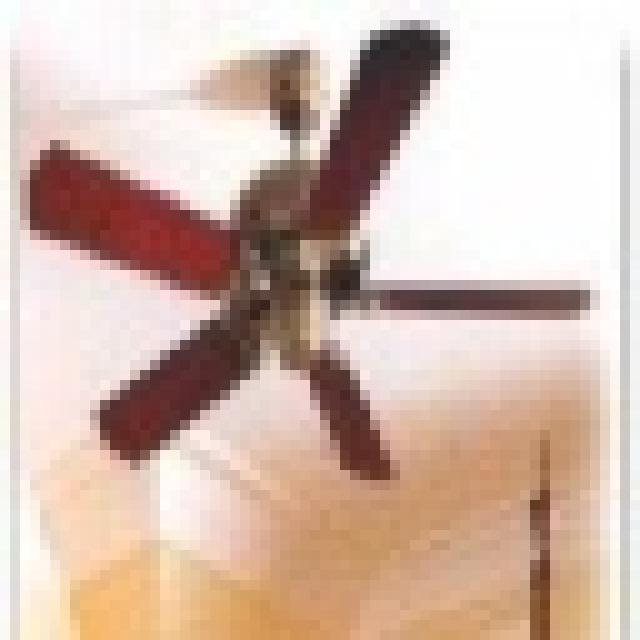Bulb: (31, 61, 634, 482)
